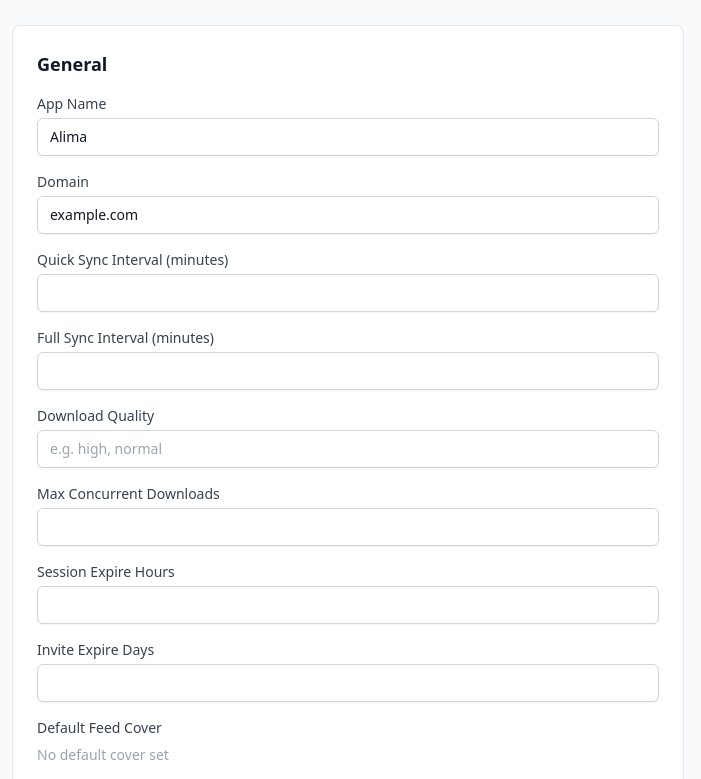
it: SettingsPage › Save Settings PUTs the edited values
The width and height of the screenshot is (701, 779).
Replace the text in the field labelled "App Name" with "My Library". click: (348, 137)
box: [37,118,659,156]
(page scrolled)
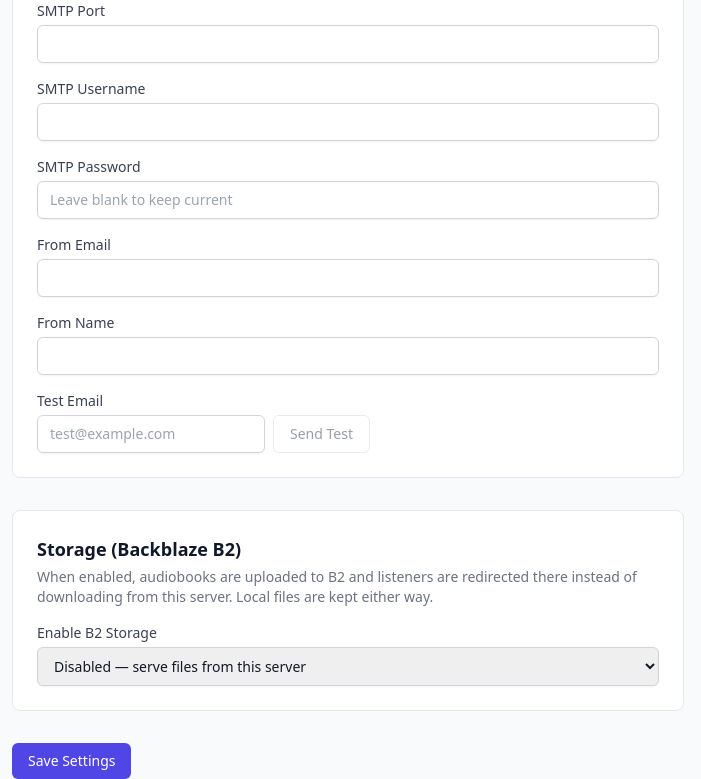
Click the button "Save Settings". click: (72, 761)
box: [12,743,132,778]
(page scrolled)
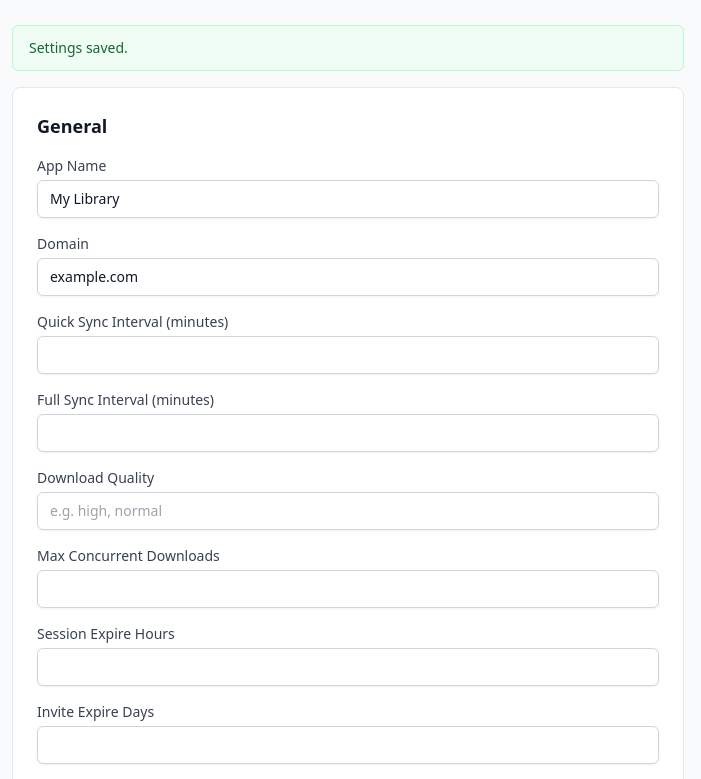
Expected: the text "Settings saved." is shown, [12,25,684,71]
